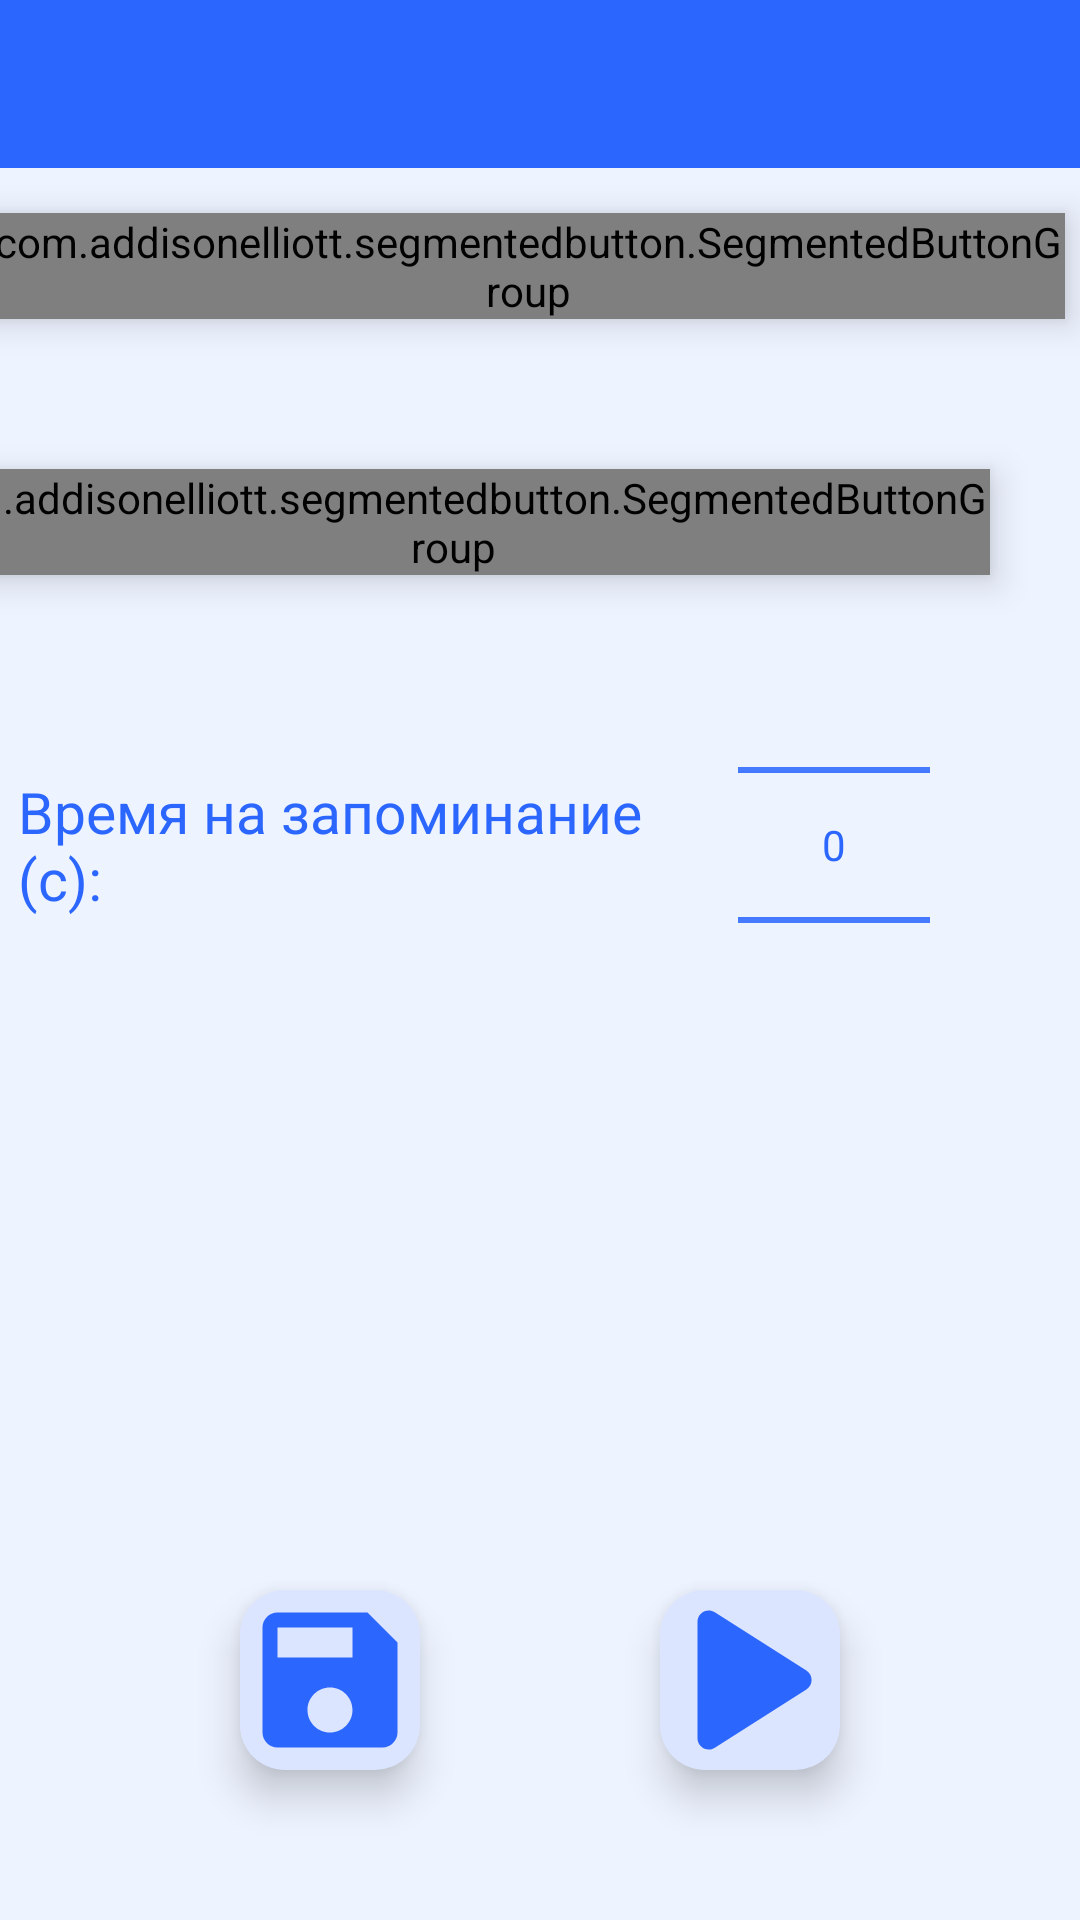

Icons on this 1080×1920 Android screen, each with its box as (x1, y1, x2, y2):
play arrow: (660, 1590, 840, 1770)
save: (257, 1612, 398, 1770)
